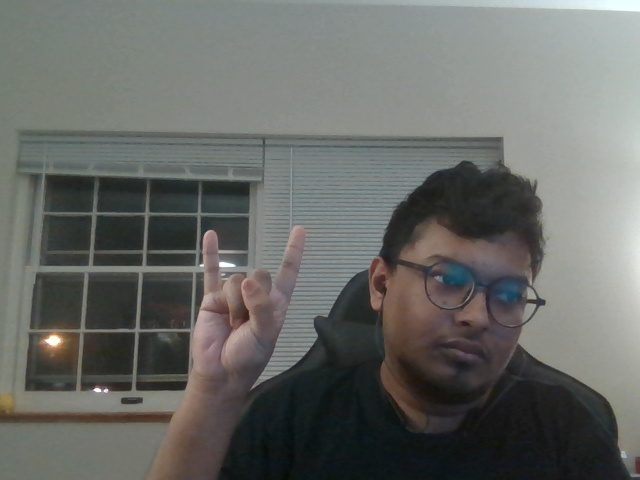ilikeyou: (174, 222, 314, 396)
